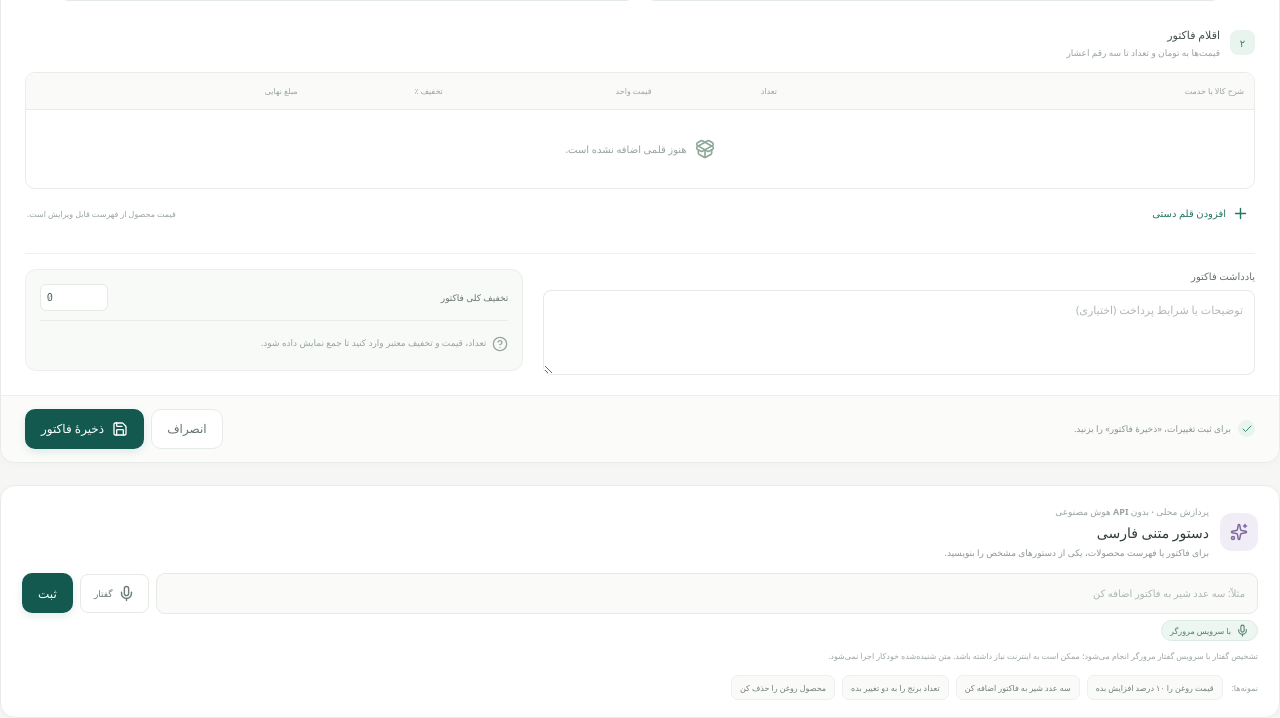
it: دکمهٔ گفتار: توقف، بازیابی و خطای دستور › خطای مجوز میکروفن پیام خطای گفتار می‌دهد، نه پیام دستور نامعتبر، و فاکتور را تغییر نمی‌دهد
The width and height of the screenshot is (1280, 718).
(page scrolled)
Click the button "گفتار" at (114, 593), box x1=80 y1=574 x2=149 y2=613
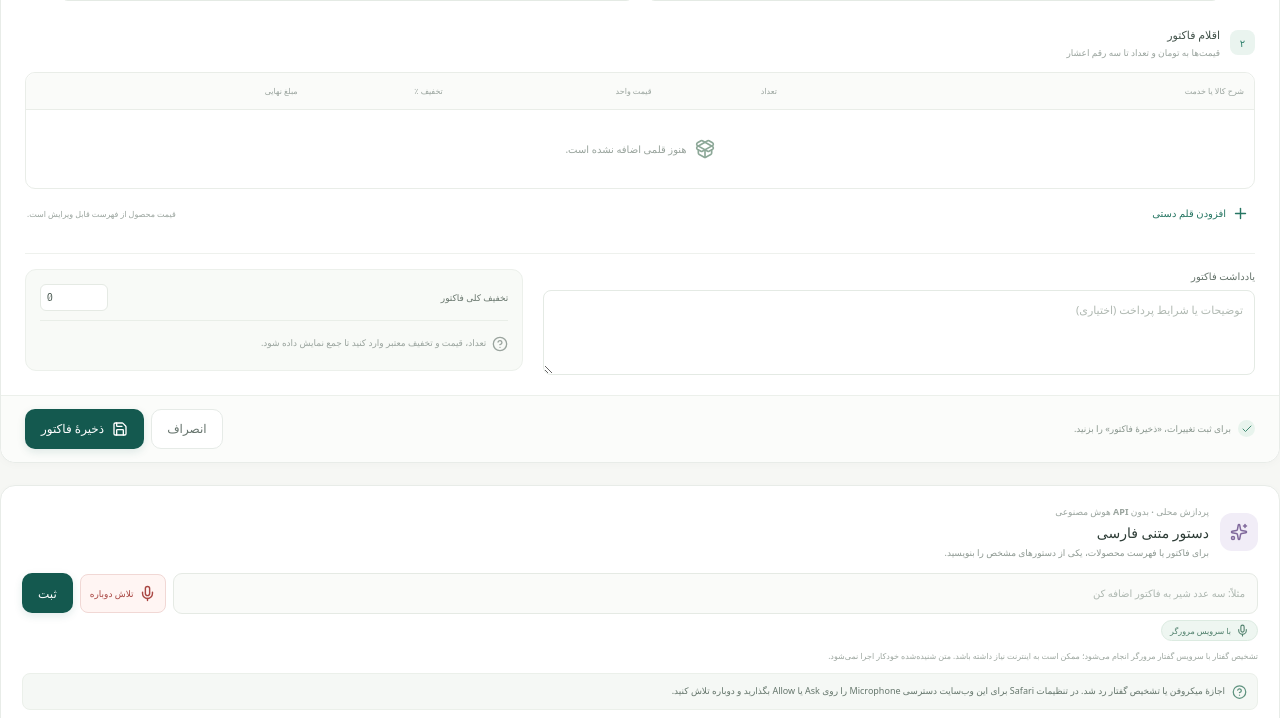
Now the message shows "اجازهٔ میکروفن", box x1=672 y1=684 x2=1225 y2=697
